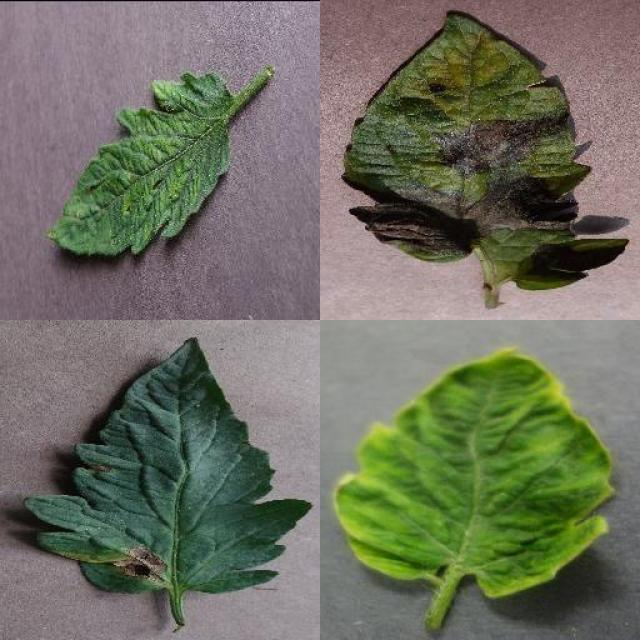Early Blight: (22, 338, 312, 598)
Late Blight: (341, 11, 631, 292)
